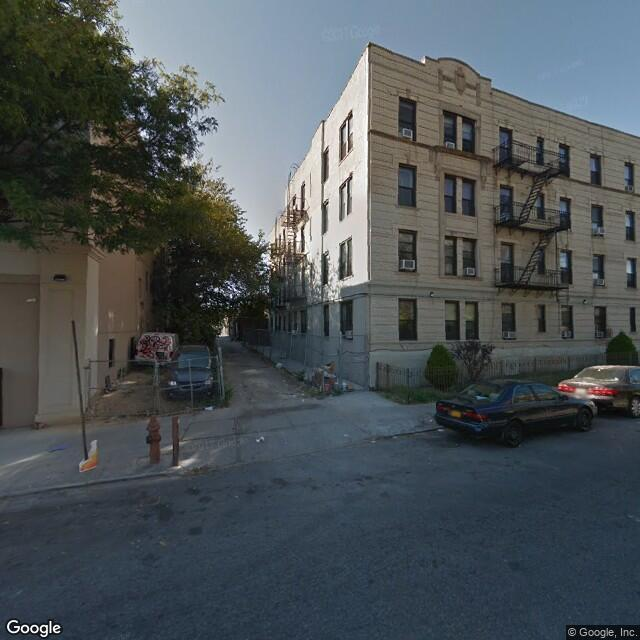litter: (435, 429, 450, 435), (392, 436, 405, 442), (255, 435, 264, 440), (368, 437, 373, 445), (203, 406, 214, 409), (341, 431, 346, 434), (300, 399, 303, 400)
